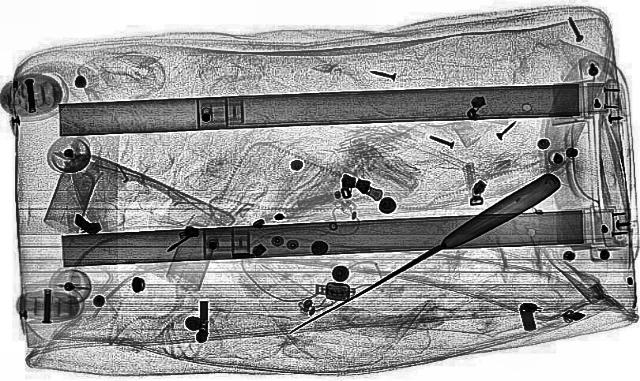Knife: (279, 171, 571, 339)
